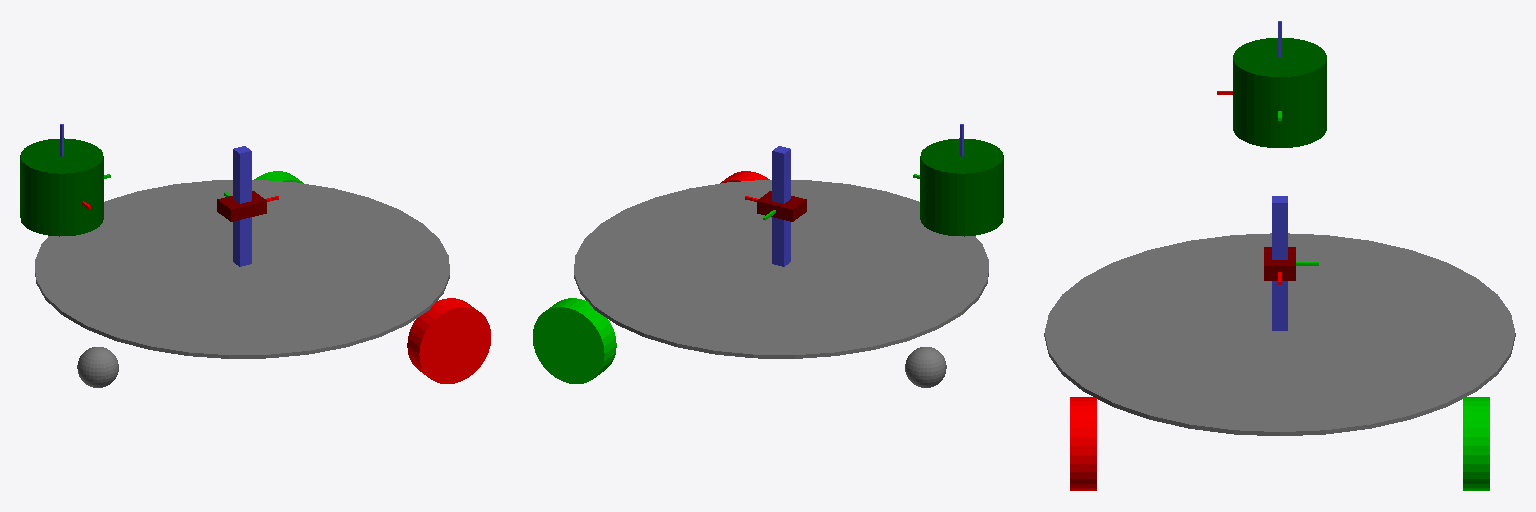
URDF robot description (dome2):
<?xml version="1.0"?>
<robot name="dome2">
  <material name="gray">
    <color rgba="0.5 0.5 0.5 1.0" />
  </material>
  <material name="black">
    <color rgba="0 0 0 1" />
  </material>
  <material name="red">
    <color rgba="1 0 0 1" />
  </material>
  <material name="blue">
    <color rgba="0.3 0.3 0.8 1" />
  </material>
  <material name="green">
    <color rgba="0 0.8 0 1" />
  </material>
  <material name="yellow">
    <color rgba="1 1 0 1" />
  </material>
  <material name="white">
    <color rgba="1 1 1 1" />
  </material>
  <material name="dark_red">
    <color rgba="0.5 0 0 1" />
  </material>
  <material name="dark_green">
    <color rgba="0 0.4 0 1" />
  </material>
  <link name="base_footprint" />
  <link name="base_link">
    <visual>
      <geometry>
        <cylinder radius="0.15" length="0.003" />
      </geometry>
      <material name="gray" />
    </visual>
    <collision>
      <geometry>
        <cylinder radius="0.15" length="0.003" />
      </geometry>
    </collision>
  </link>
  <link name="left_wheel">
    <visual>
      <origin rpy="1.5707963267948966 0 0" />
      <geometry>
        <cylinder radius="0.03" length="0.0175" />
      </geometry>
      <material name="green" />
    </visual>
    <collision>
      <origin rpy="1.5707963267948966 0 0" />
      <geometry>
        <cylinder radius="0.03" length="0.0175" />
      </geometry>
    </collision>
  </link>
  <link name="right_wheel">
    <visual>
      <origin rpy="1.5707963267948966 0 0" />
      <geometry>
        <cylinder radius="0.03" length="0.0175" />
      </geometry>
      <material name="red" />
    </visual>
    <collision>
      <origin rpy="1.5707963267948966 0 0" />
      <geometry>
        <cylinder radius="0.03" length="0.0175" />
      </geometry>
    </collision>
  </link>
  <link name="caster">
    <visual>
      <geometry>
        <sphere radius="0.015" />
      </geometry>
      <material name="gray" />
    </visual>
    <collision>
      <geometry>
        <sphere radius="0.015" />
      </geometry>
    </collision>
  </link>
  <link name="laser_post_link">
    <visual>
      <geometry>
        <box size="0.01 0.01 0.09" />
      </geometry>
      <material name="blue" />
    </visual>
    <collision>
      <geometry>
        <box size="0.01 0.01 0.09" />
      </geometry>
    </collision>
  </link>
  <link name="laser">
    <visual>
      <geometry>
        <cylinder radius="0.03" length="0.05" />
      </geometry>
      <material name="dark_green" />
    </visual>
    <collision>
      <geometry>
        <cylinder radius="0.03" length="0.05" />
      </geometry>
    </collision>
  </link>
  <link name="laser_forward_link">
    <visual>
      <geometry>
        <box size="0.04 0.002 0.002" />
      </geometry>
      <material name="red" />
    </visual>
    <collision>
      <geometry>
        <box size="0.04 0.002 0.002" />
      </geometry>
    </collision>
  </link>
  <link name="laser_left_link">
    <visual>
      <geometry>
        <box size="0.002 0.04 0.002" />
      </geometry>
      <material name="green" />
    </visual>
    <collision>
      <geometry>
        <box size="0.002 0.04 0.002" />
      </geometry>
    </collision>
  </link>
  <link name="laser_up_link">
    <visual>
      <geometry>
        <box size="0.002 0.002 0.04" />
      </geometry>
      <material name="blue" />
    </visual>
    <collision>
      <geometry>
        <box size="0.002 0.002 0.04" />
      </geometry>
    </collision>
  </link>
  <link name="imu_link">
    <visual>
      <geometry>
        <box size="0.03 0.02 0.01" />
      </geometry>
      <material name="dark_red" />
    </visual>
    <collision>
      <geometry>
        <box size="0.03 0.02 0.01" />
      </geometry>
    </collision>
  </link>
  <link name="imu_forward_link">
    <visual>
      <geometry>
        <box size="0.03 0.002 0.002" />
      </geometry>
      <material name="red" />
    </visual>
    <collision>
      <geometry>
        <box size="0.03 0.002 0.002" />
      </geometry>
    </collision>
  </link>
  <link name="imu_left_link">
    <visual>
      <geometry>
        <box size="0.002 0.03 0.002" />
      </geometry>
      <material name="green" />
    </visual>
    <collision>
      <geometry>
        <box size="0.002 0.03 0.002" />
      </geometry>
    </collision>
  </link>
  <link name="imu_up_link">
    <visual>
      <geometry>
        <box size="0.002 0.002 0.03" />
      </geometry>
      <material name="blue" />
    </visual>
    <collision>
      <geometry>
        <box size="0.002 0.002 0.03" />
      </geometry>
    </collision>
  </link>
  <link name="origin_marker_link">
    <visual>
      <geometry>
        <sphere radius="0.001" />
      </geometry>
      <material name="yellow" />
    </visual>
    <collision>
      <geometry>
        <sphere radius="0.001" />
      </geometry>
    </collision>
  </link>
  <joint name="base_footprint_to_base_link" type="fixed">
    <parent link="base_footprint" />
    <child link="base_link" />
    <origin xyz="0 0 0.05" />
  </joint>
  <joint name="base_link_to_left_wheel" type="continuous">
    <parent link="base_link" />
    <child link="left_wheel" />
    <origin xyz="0.1 0.125 -0.03" />
    <axis xyz="0 1 0" />
  </joint>
  <joint name="base_link_to_right_wheel" type="continuous">
    <parent link="base_link" />
    <child link="right_wheel" />
    <origin xyz="0.1 -0.125 -0.03" />
    <axis xyz="0 1 0" />
  </joint>
  <joint name="base_link_to_caster" type="fixed">
    <parent link="base_link" />
    <child link="caster" />
    <origin xyz="-0.12 0 -0.05" />
  </joint>
  <joint name="base_link_to_imu_link" type="fixed">
    <parent link="base_link" />
    <child link="imu_link" />
    <origin xyz="0.0 0 0.05" rpy="0 0 0" />
  </joint>
  <joint name="imu_link_to_imu_forward_link" type="fixed">
    <parent link="imu_link" />
    <child link="imu_forward_link" />
    <origin xyz="0.015 0 0" />
  </joint>
  <joint name="imu_link_to_imu_left_link" type="fixed">
    <parent link="imu_link" />
    <child link="imu_left_link" />
    <origin xyz="0 0.01 0" />
  </joint>
  <joint name="imu_link_to_imu_up_link" type="fixed">
    <parent link="imu_link" />
    <child link="imu_up_link" />
    <origin xyz="0 0 0.015" />
  </joint>
  <joint name="base_link_to_origin_marker_link" type="fixed">
    <parent link="base_link" />
    <child link="origin_marker_link" />
    <origin xyz="0 0 0" />
  </joint>
  <joint name="base_link_to_laser_post_link" type="fixed">
    <parent link="base_link" />
    <child link="laser_post_link" />
    <origin xyz="0 0 0.05" />
  </joint>
  <joint name="base_link_to_laser" type="fixed">
    <parent link="base_link" />
    <child link="laser" />
    <origin xyz="-0.15 0 0.1" rpy="0 0 -1.5707963267948966" />
  </joint>
  <joint name="laser_to_laser_forward_link" type="fixed">
    <parent link="laser" />
    <child link="laser_forward_link" />
    <origin xyz="0.02 0 0" />
  </joint>
  <joint name="laser_to_laser_left_link" type="fixed">
    <parent link="laser" />
    <child link="laser_left_link" />
    <origin xyz="0 0.02 0" />
  </joint>
  <joint name="laser_to_laser_up_link" type="fixed">
    <parent link="laser" />
    <child link="laser_up_link" />
    <origin xyz="0 0 0.03" />
  </joint>
</robot>

--- Facts derived from the render (not from the file) ---
3 views of the same robot in one strip: view 1: azimuth 30°, elevation 25°; view 2: azimuth 150°, elevation 25°; view 3: azimuth 270°, elevation 25° (orthographic).
Robot: dome2 — 15 links, 14 joints (2 continuous, 12 fixed); root link base_footprint; default pose: every joint at zero.
Links seen in each view (by area): view 1: base_link, laser, right_wheel, laser_post_link, caster, imu_link; view 2: base_link, laser, left_wheel, laser_post_link, caster, imu_link; view 3: base_link, laser, left_wheel, right_wheel, laser_post_link, imu_link.
Link boxes in pixels (x1,y1,x2,y2): base_link: [35, 180, 449, 358]; laser: [20, 138, 103, 236]; right_wheel: [407, 298, 490, 383]; laser_post_link: [233, 146, 251, 266]; caster: [77, 347, 118, 387]; imu_link: [217, 191, 266, 221]; base_link: [574, 180, 988, 358]; laser: [920, 138, 1003, 236]; left_wheel: [533, 298, 616, 383]; laser_post_link: [772, 146, 790, 266]; caster: [905, 347, 946, 387]; imu_link: [757, 191, 806, 221]; base_link: [1044, 233, 1515, 435]; laser: [1233, 38, 1326, 147]; left_wheel: [1463, 397, 1489, 490]; right_wheel: [1070, 397, 1096, 490]; laser_post_link: [1272, 196, 1287, 330]; imu_link: [1264, 247, 1295, 280].
Bounding box of the posed robot: 0.33 × 0.3 × 0.215 m (x, y, z).
Geometry: primitives only (box / cylinder / sphere), no mesh files.